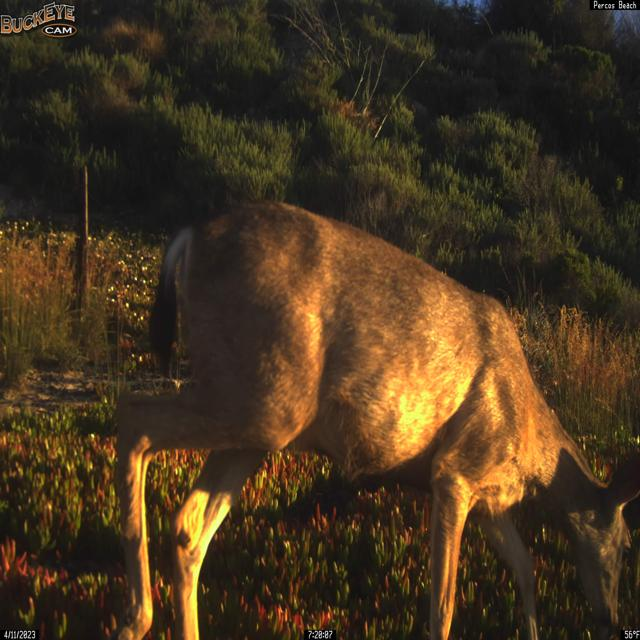deer: (103, 198, 639, 640)
